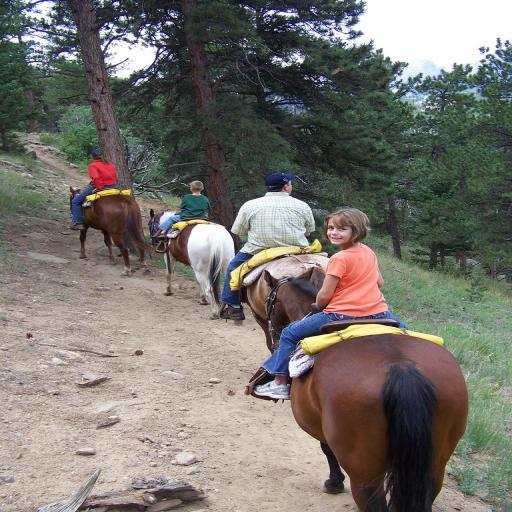horse: (264, 268, 472, 512), (148, 208, 242, 308), (246, 250, 334, 356), (68, 186, 153, 277)
